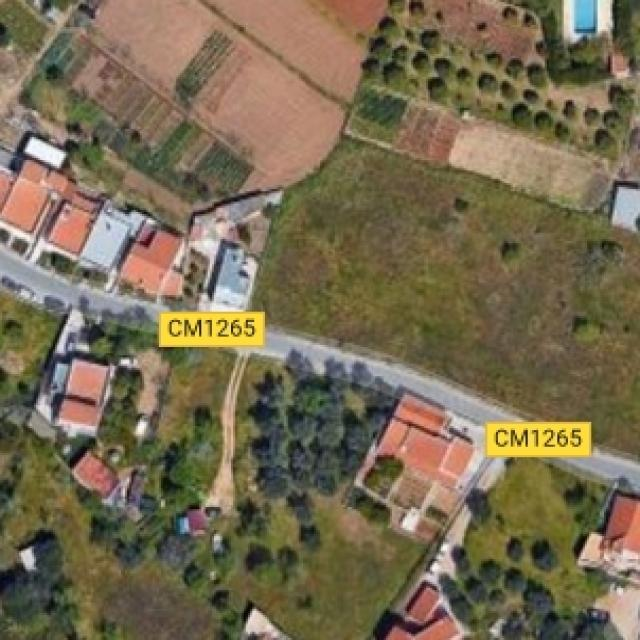swimming pool: (572, 0, 598, 33)
